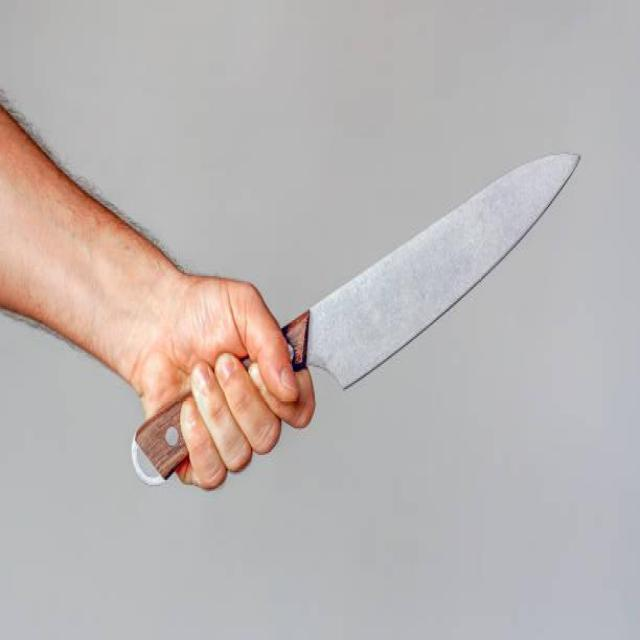faca: (136, 133, 590, 527)
